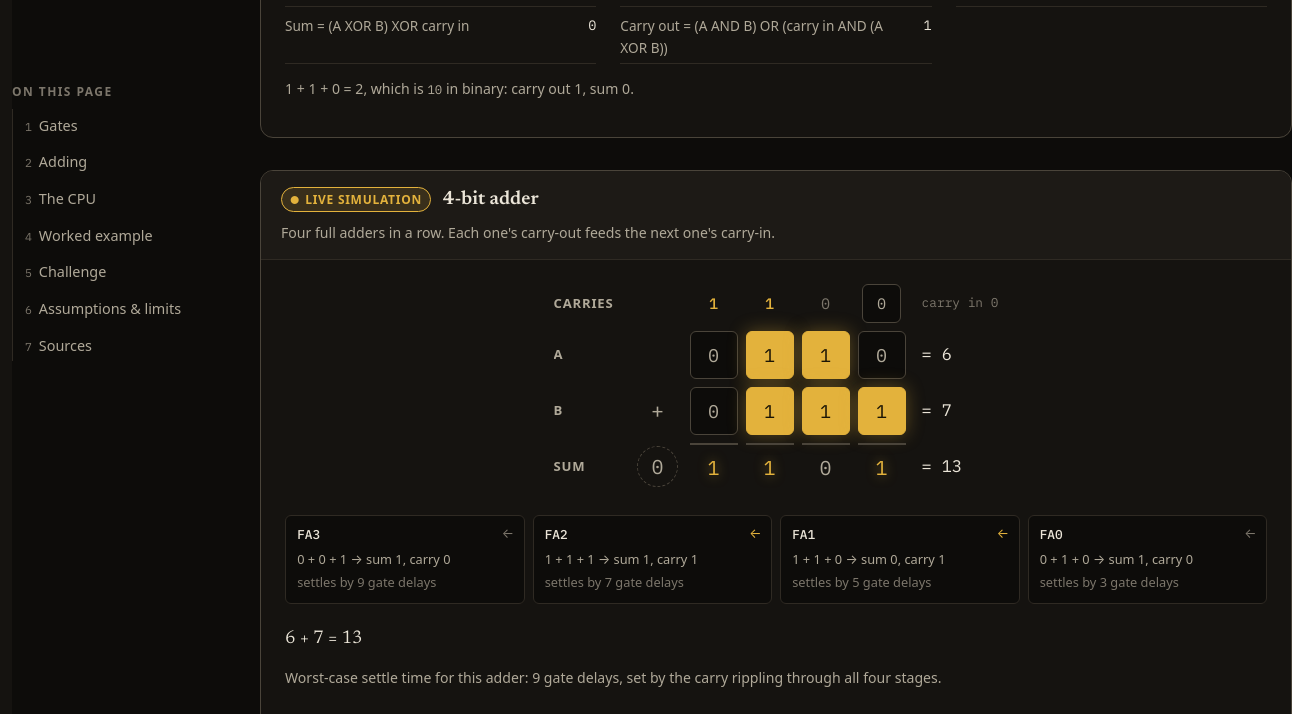
Test: Logic gates → binary adder → miniature CPU › adder lab: shows the worked example and responds to bit toggles
(page scrolled)
Expected: the text with test id "adder-result" reads "6 + 7 = 13", x1=285 y1=628 x2=362 y2=648
Step 1. Click the button named "a bit 3" → click(714, 355), box x1=690 y1=331 x2=738 y2=379
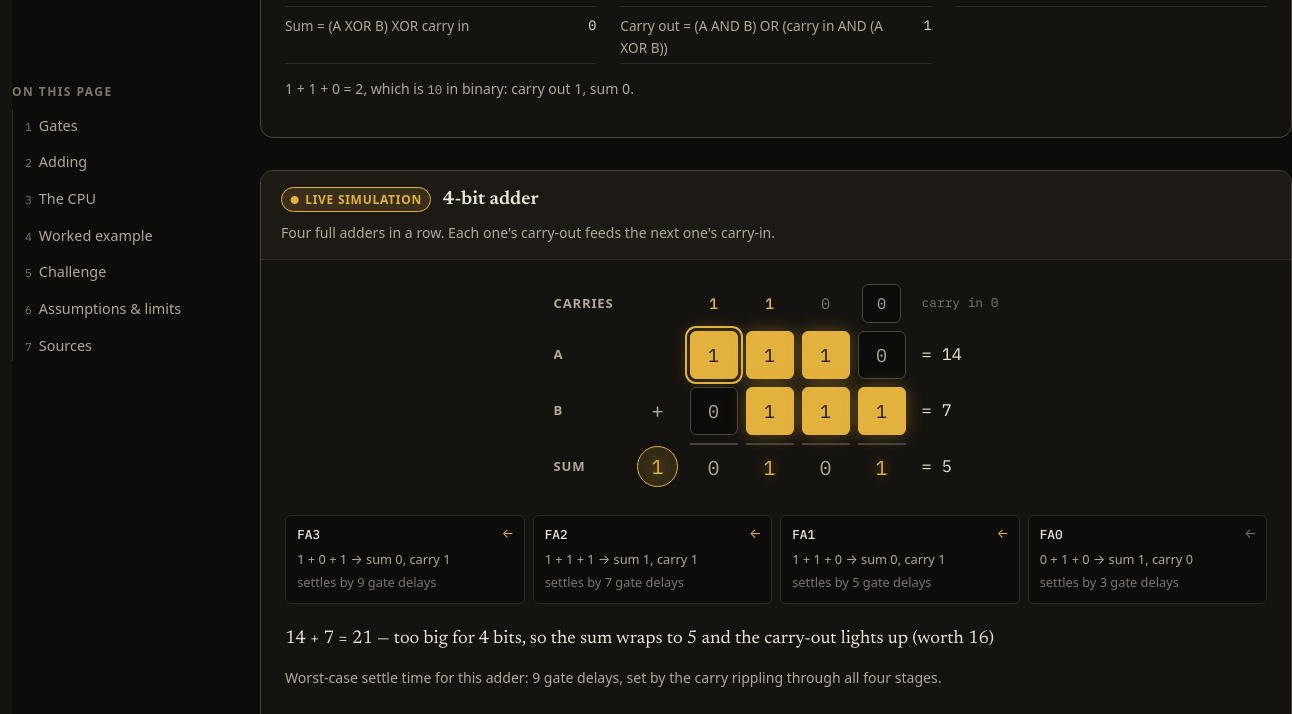
Now the text with test id "adder-result" shows "14 + 7 = 21", box x1=285 y1=628 x2=994 y2=648
Now the text with test id "adder-result" shows "wraps to 5", box x1=285 y1=628 x2=994 y2=648
Now the text with test id "adder-carry-out" reads "1", box x1=652 y1=453 x2=664 y2=480
